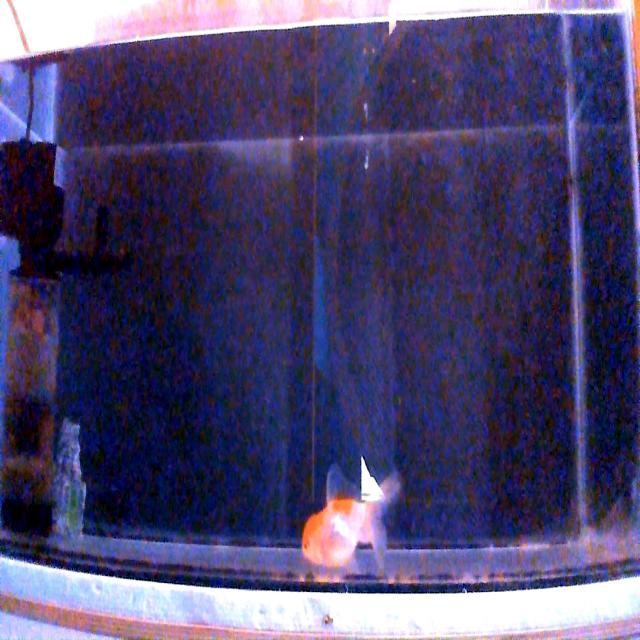fish: (299, 457, 403, 573)
